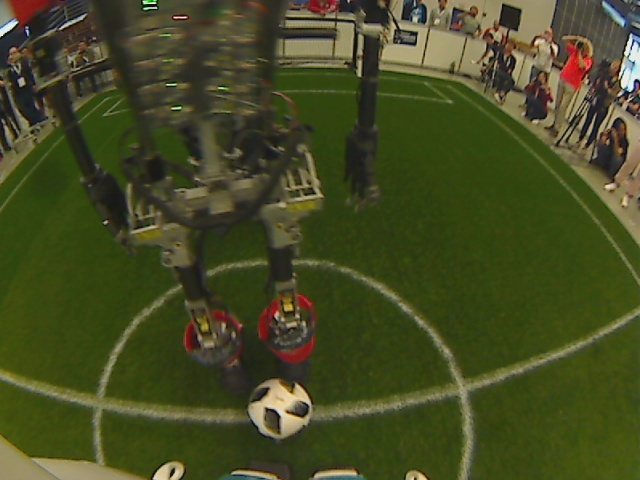ball: (243, 373, 316, 442)
